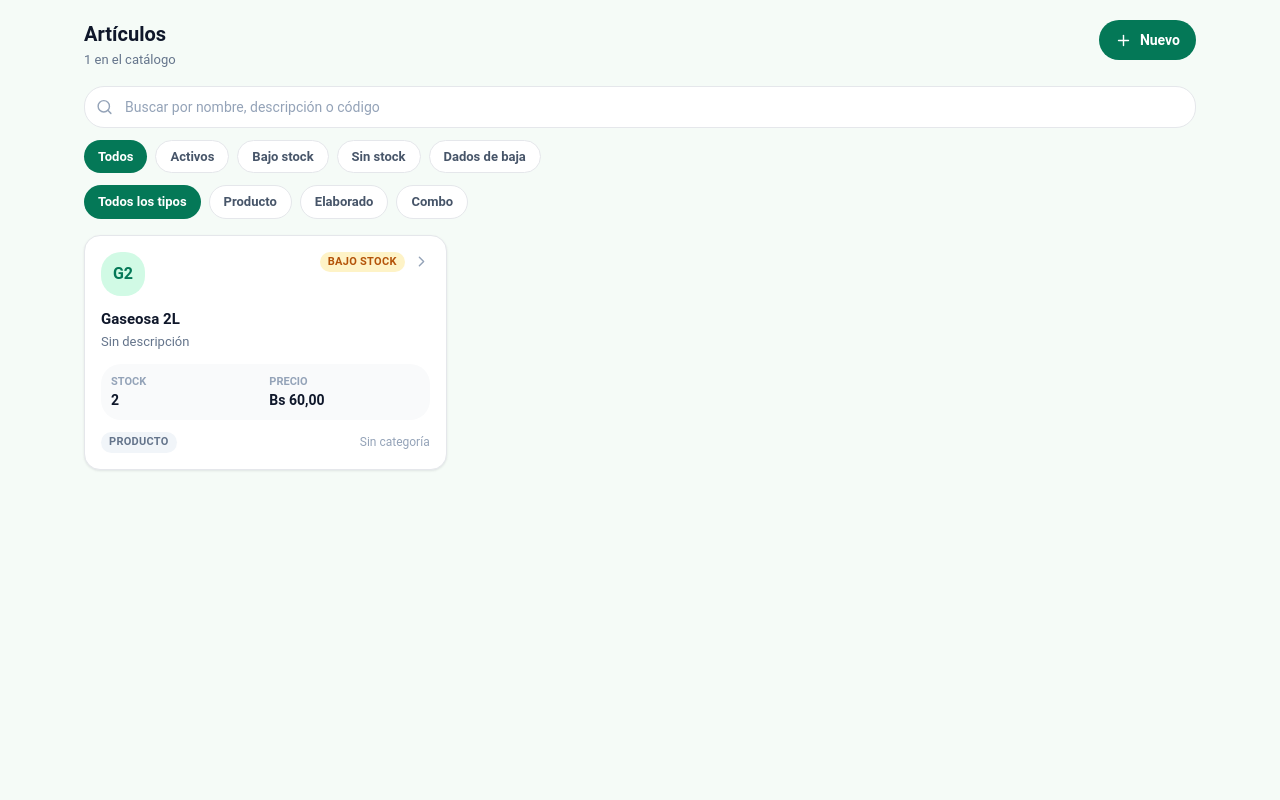
Test case: BUG-catalogo-2: el precio es obligatorio › con el precio vacío no guarda: antes quedaba a Bs 0 y el POS lo cobraba gratis
Expected: the heading "Gaseosa 2L" is shown, [101, 310, 180, 328]
Click the button "Nuevo" at (1147, 40), box [1099, 20, 1196, 60]
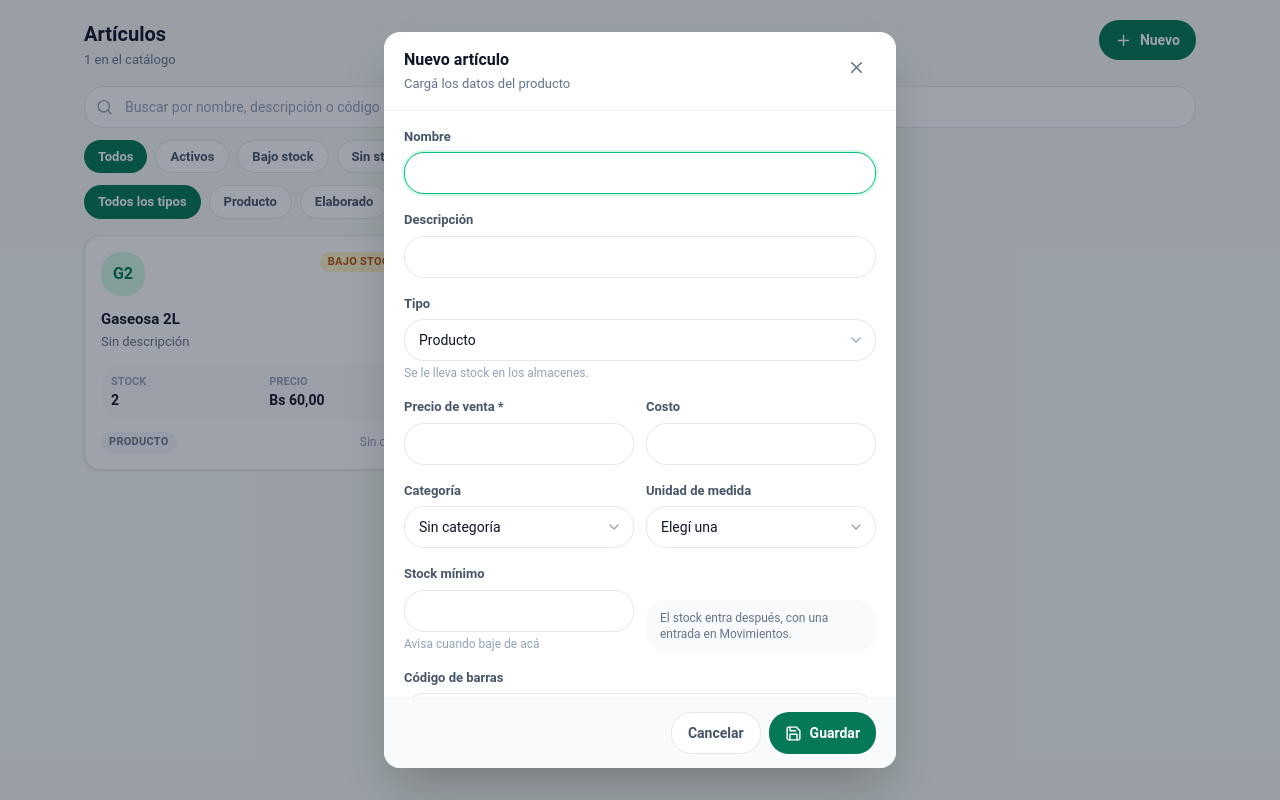
Type "Pollo a la brasa" into the field labelled "Nombre" at (640, 173), box [404, 152, 876, 194]
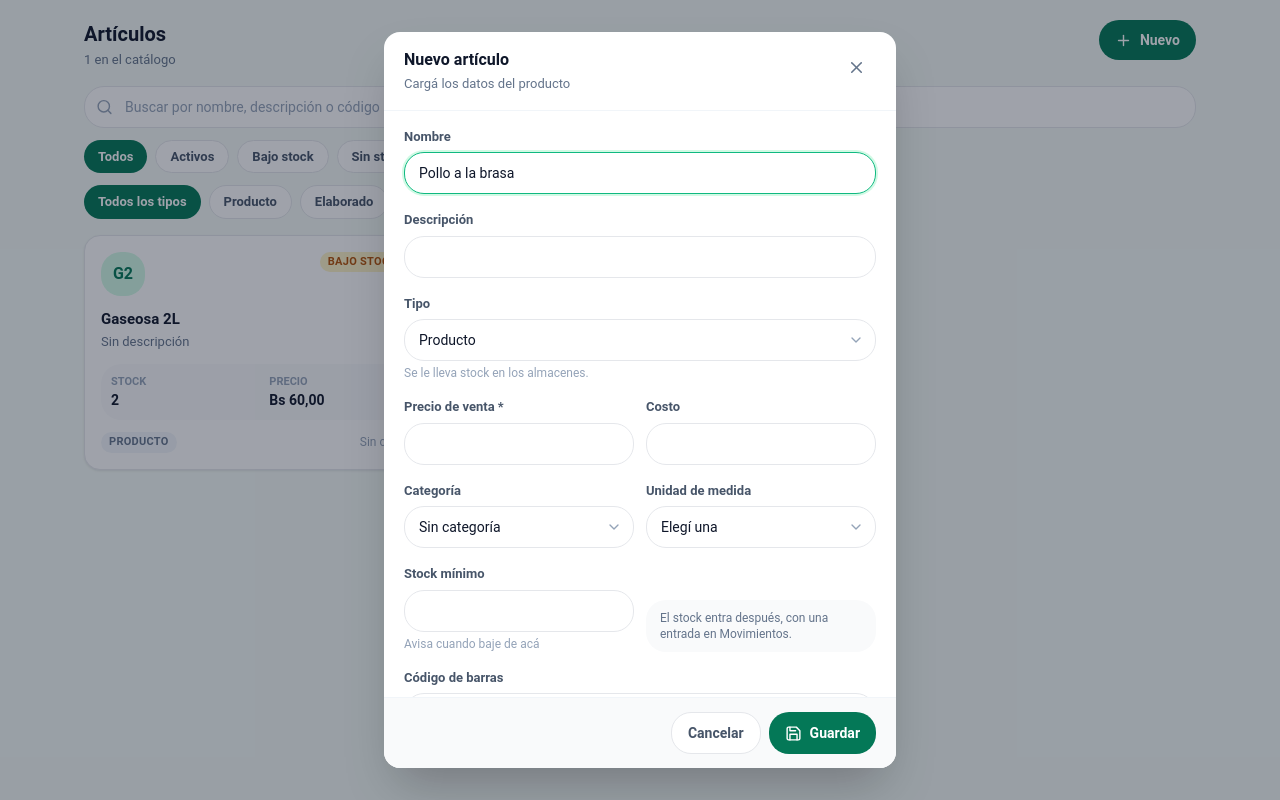
Select "Unidad" in the dropdown showing "Elegí una" at (761, 527), box [646, 506, 876, 548]
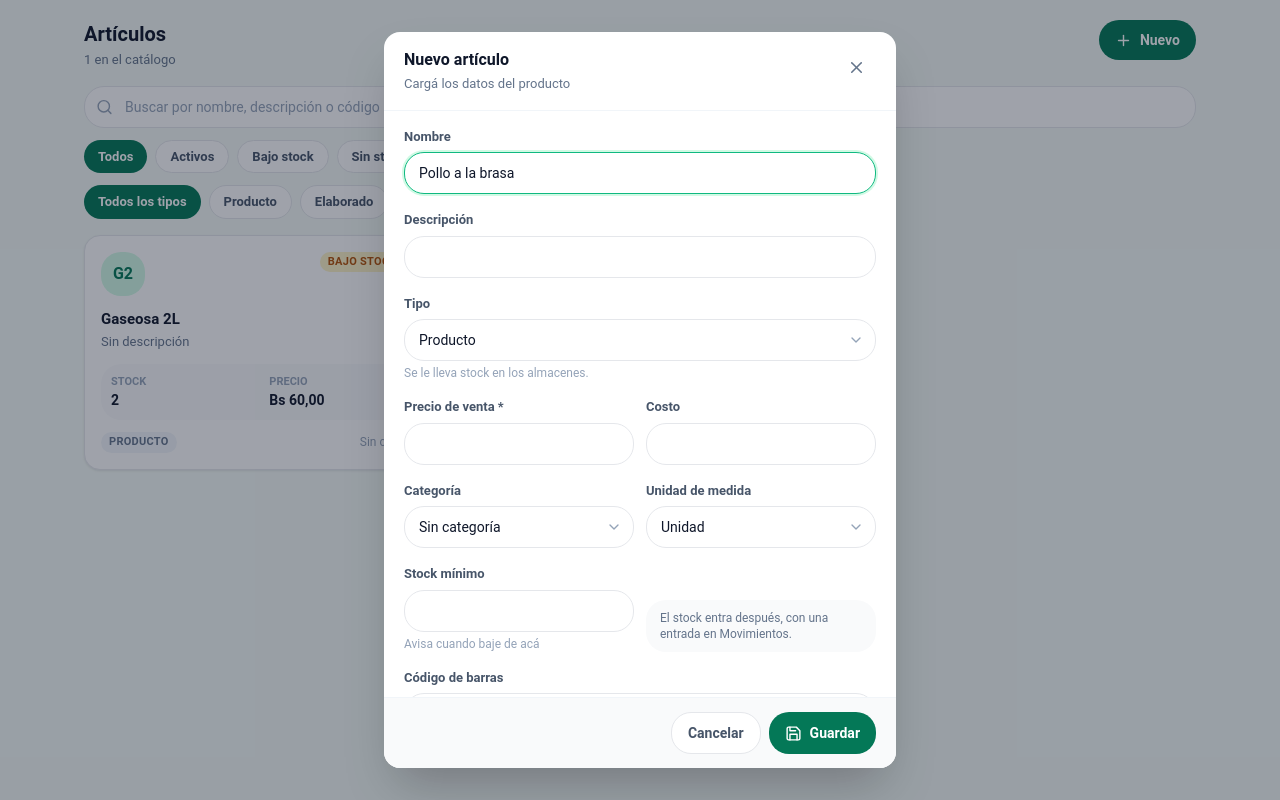
Click the button "Guardar" at (822, 733), box [769, 712, 876, 754]
(page scrolled)
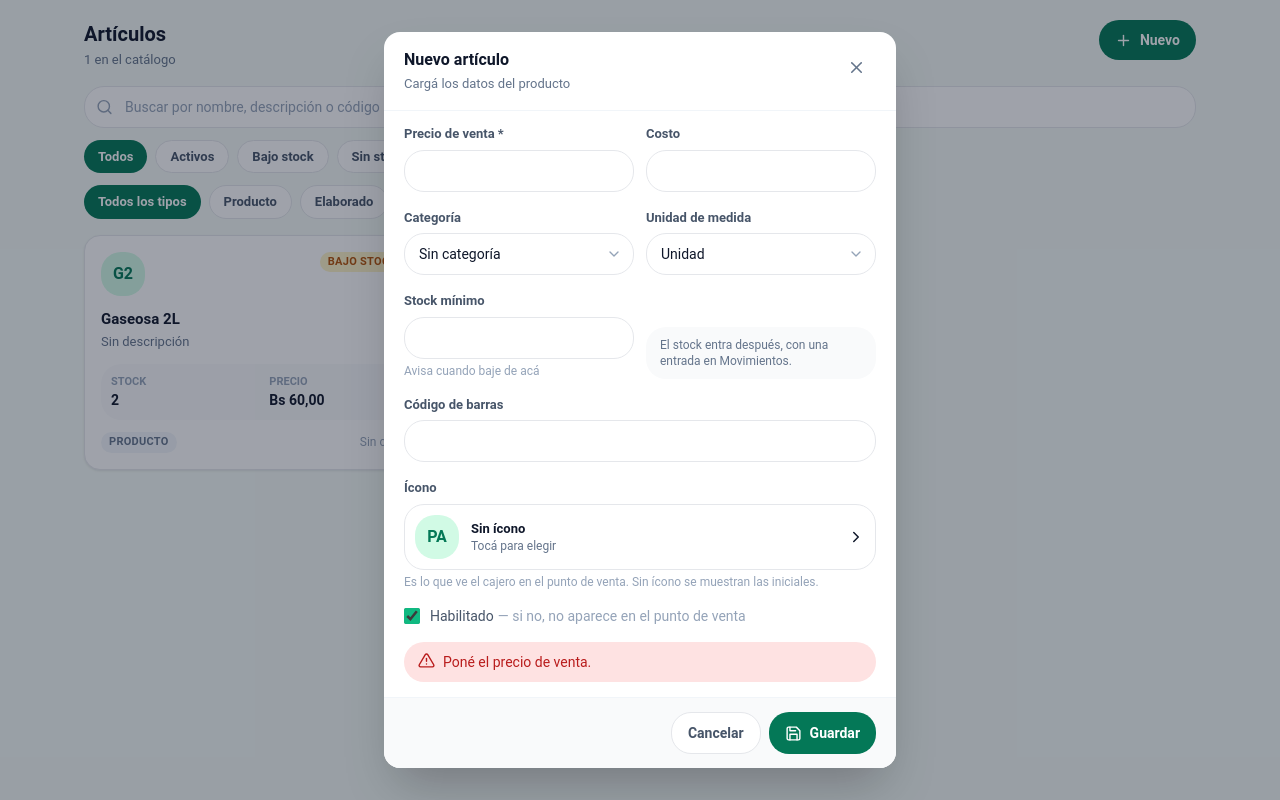
Now the text "Poné el precio de venta." is shown, box [443, 654, 591, 670]
